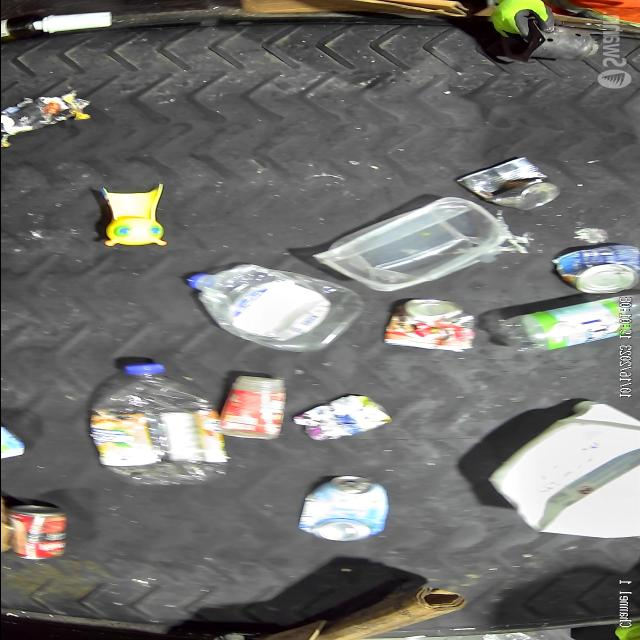can: (298, 474, 390, 542), (454, 156, 560, 210), (382, 297, 476, 353), (551, 242, 640, 295), (294, 395, 390, 441), (6, 502, 70, 560)
milk_jug: (490, 399, 640, 539)
plastic_bottle: (93, 360, 230, 487), (187, 262, 360, 352), (494, 293, 640, 351)
